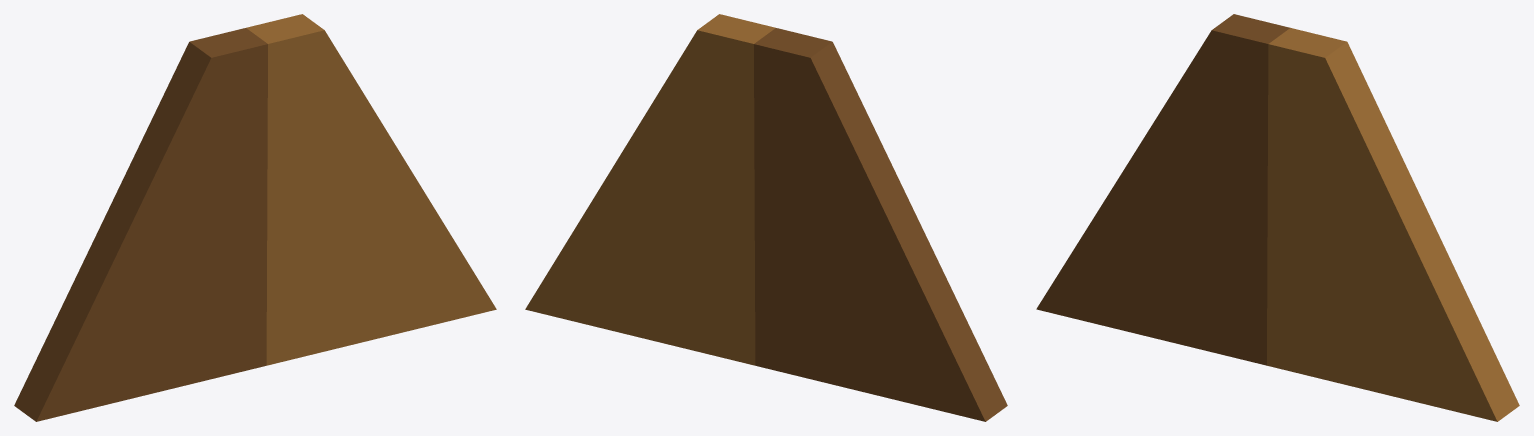
The model's file is mountain-split.fbx.
The picture shows the model from 3 angles, left to right: view 1: azimuth 30°, elevation 25°; view 2: azimuth 150°, elevation 25°; view 3: azimuth 330°, elevation 25°; orthographic projection.
Parts seen in each view (by area): view 1: Plane; view 2: Plane; view 3: Plane.
Part boxes in pixels (x1,y1,x2,y2): Plane: (14,14,496,421); Plane: (525,14,1007,421); Plane: (1036,14,1519,421).
Bounding box in the file's own units: 120000 × 80000 × 10000.
